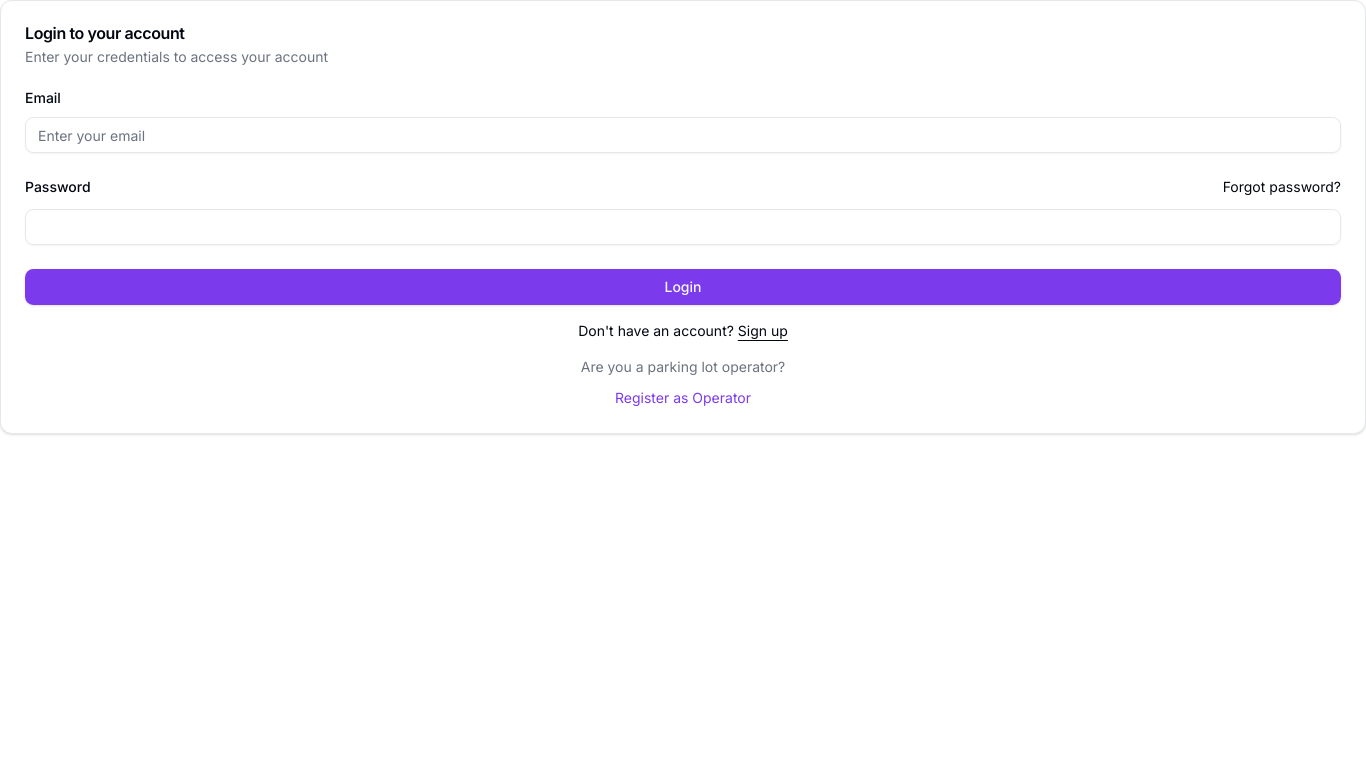
Test: LoginForm › should handle successful sign up
The width and height of the screenshot is (1366, 768).
Note: Switch to sign up mode
Click the button "Sign up" at (763, 331), box 738,321 -> 788,341
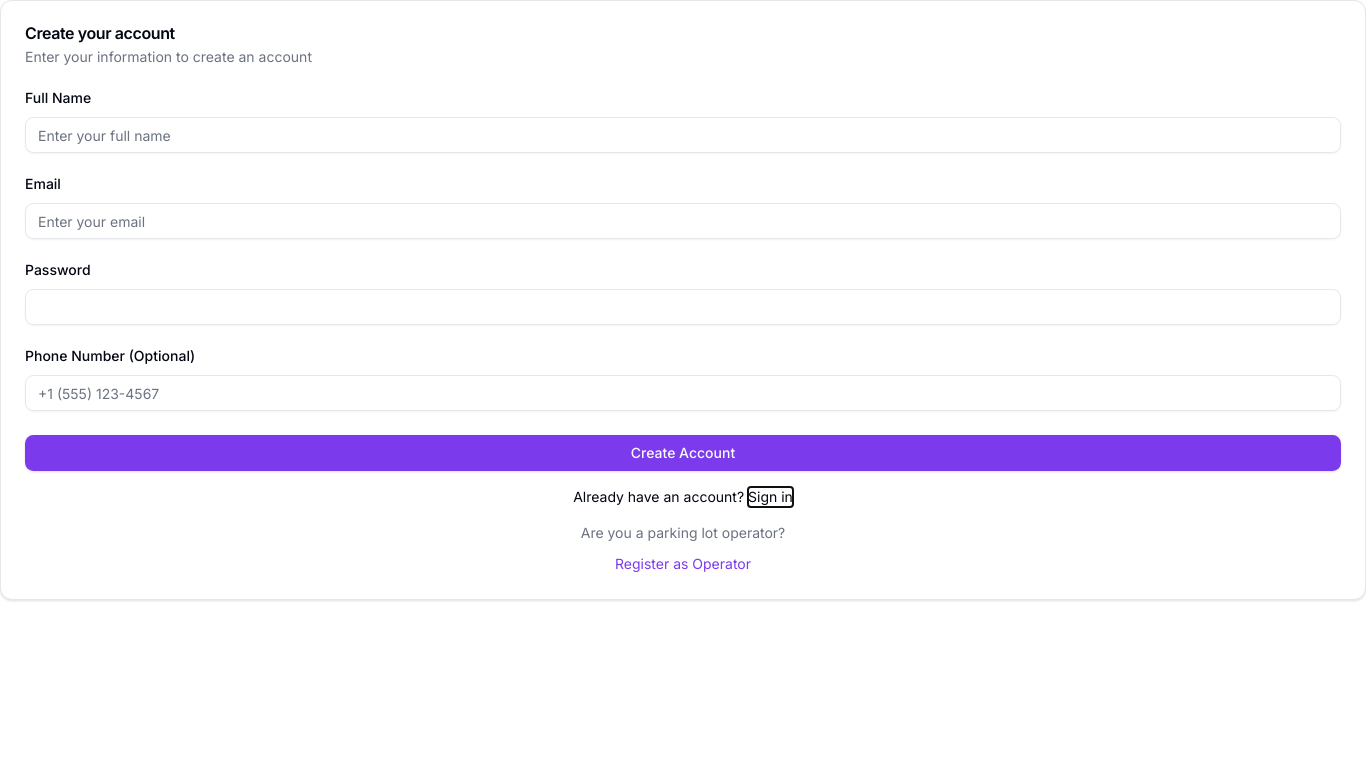
Note: Fill out the form
Type "Test User" into the field labelled "Full Name" at (683, 135), box 25,117 -> 1341,153
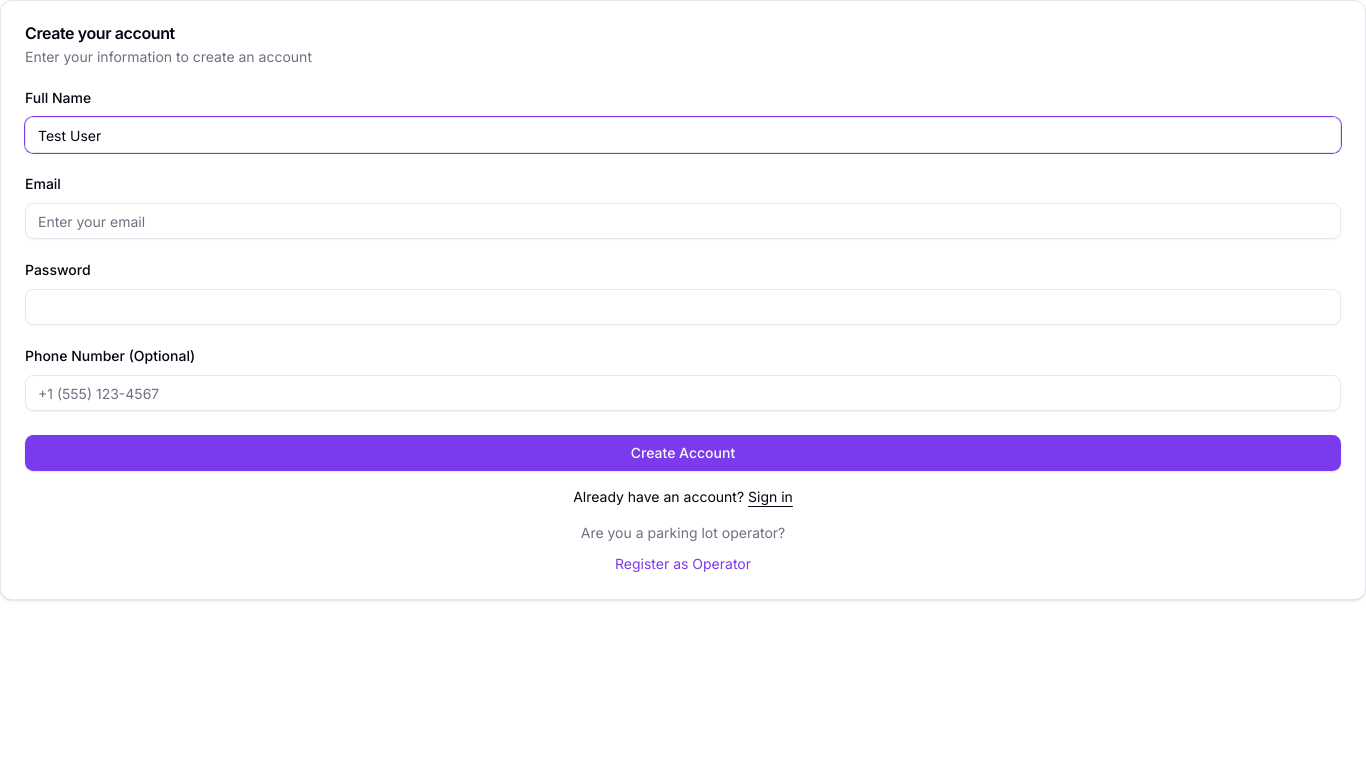
Type "test@example.com" into the field labelled "Email" at (683, 221), box 25,203 -> 1341,239
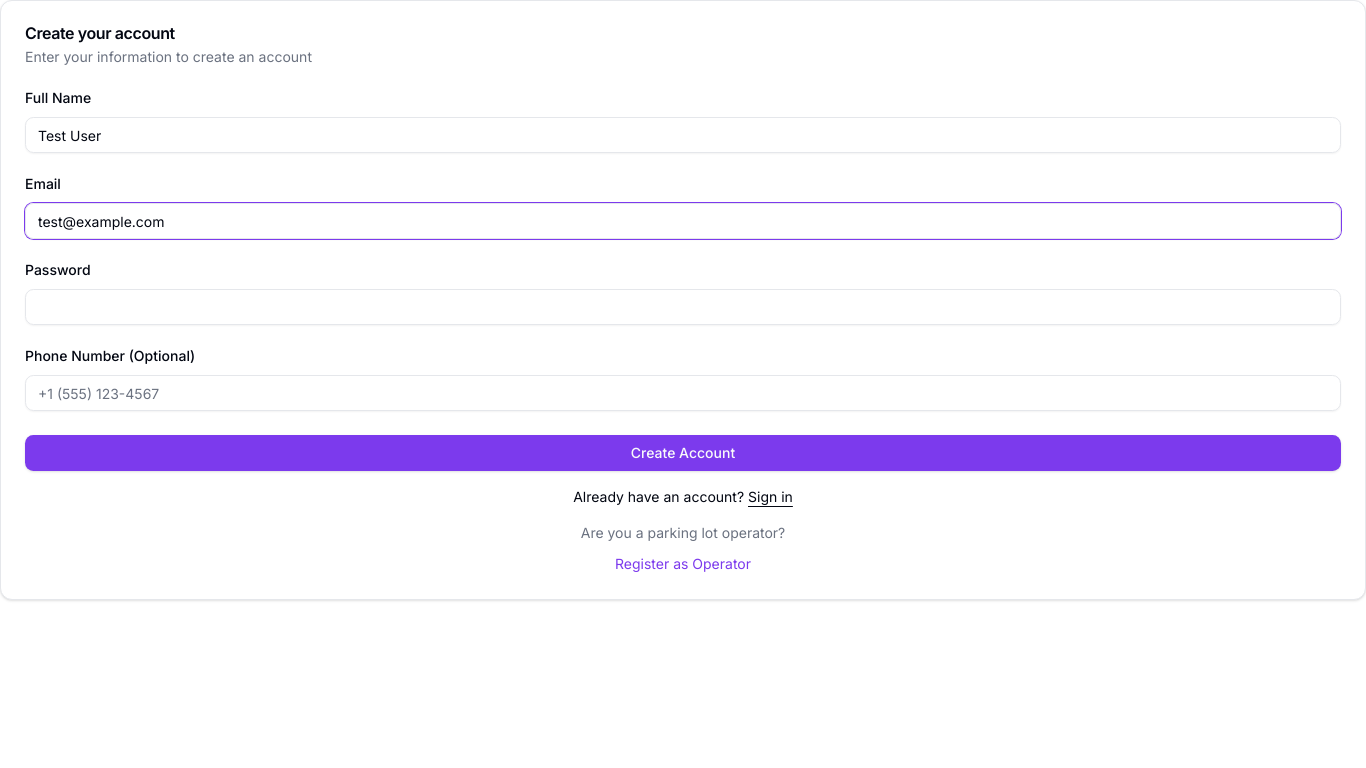
Type "password123" into the password field labelled "Password" at (683, 307), box 25,289 -> 1341,325
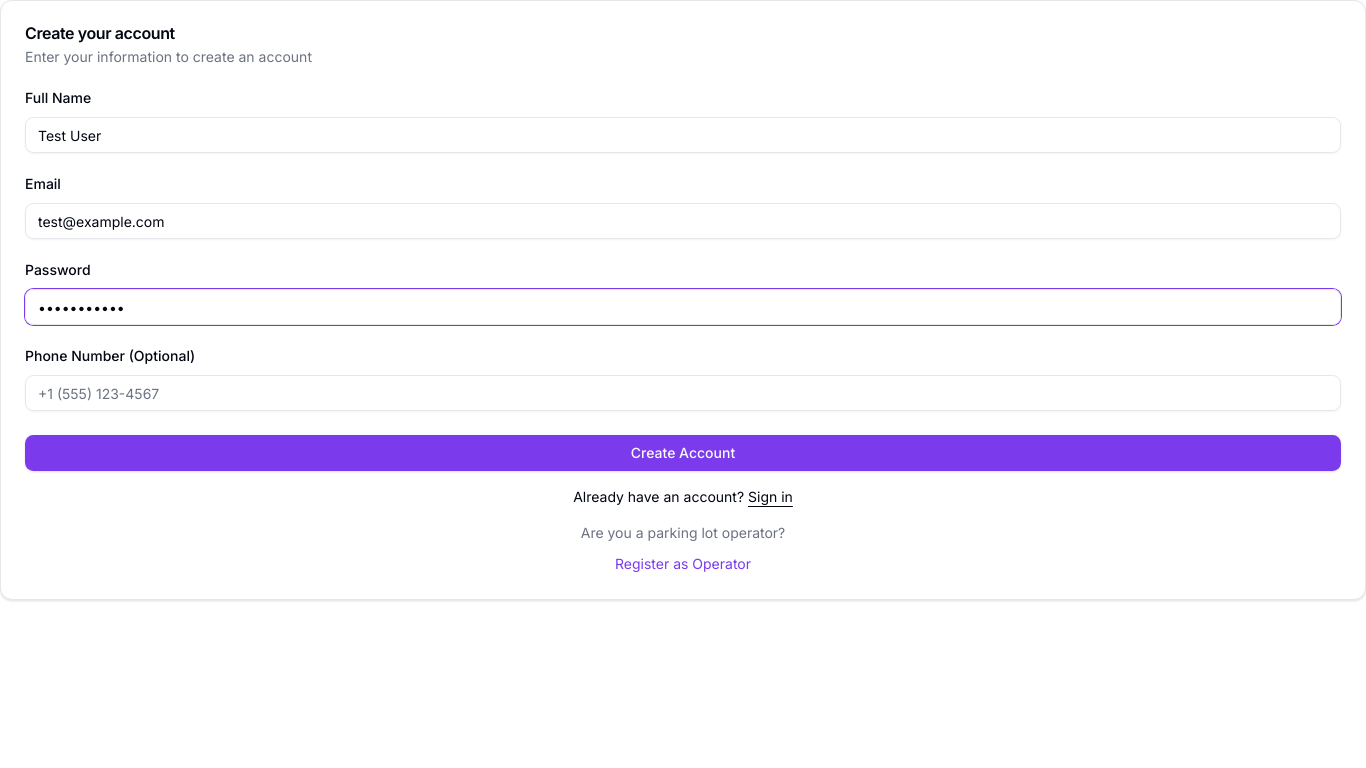
Type "+1234567890" into the field labelled "Phone Number (Optional)" at (683, 393), box 25,375 -> 1341,411
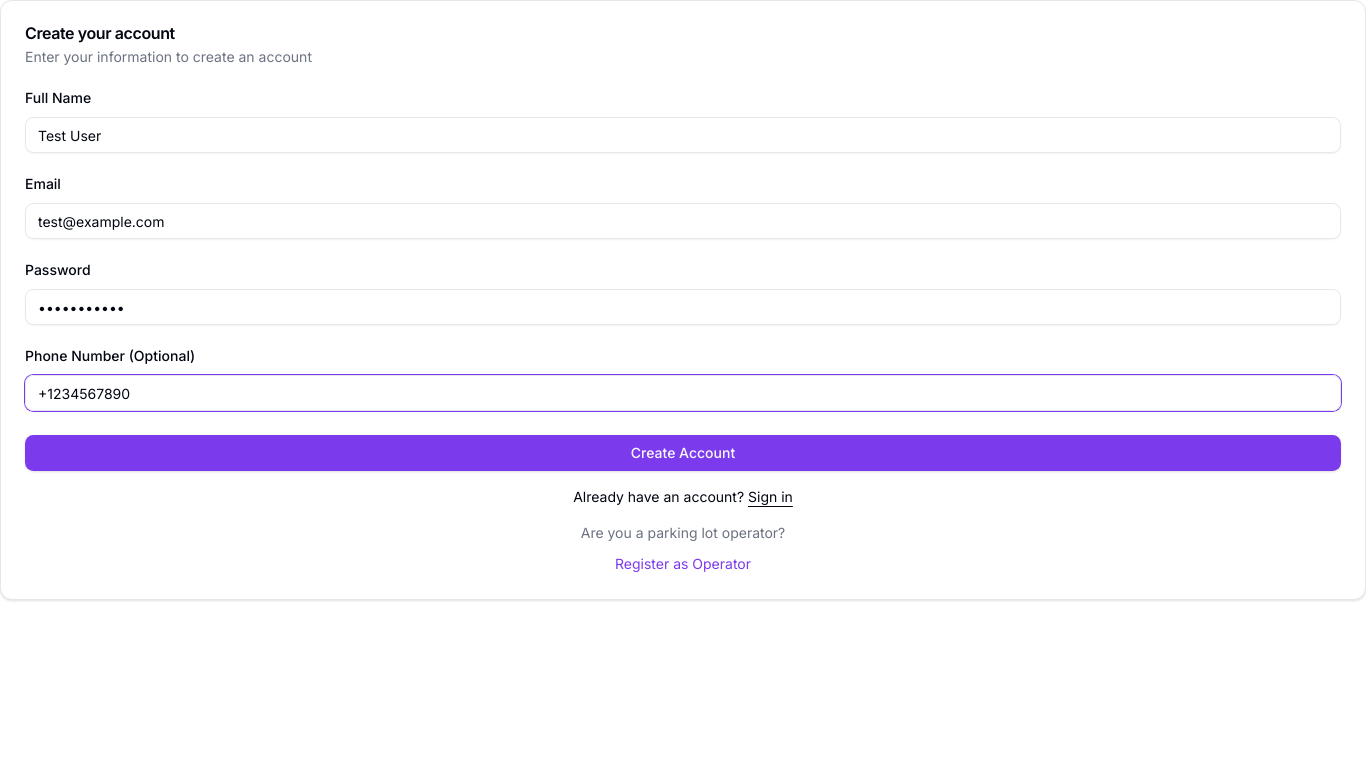
Note: Submit the form
Click the button "Create Account" at (683, 453), box 25,435 -> 1341,471
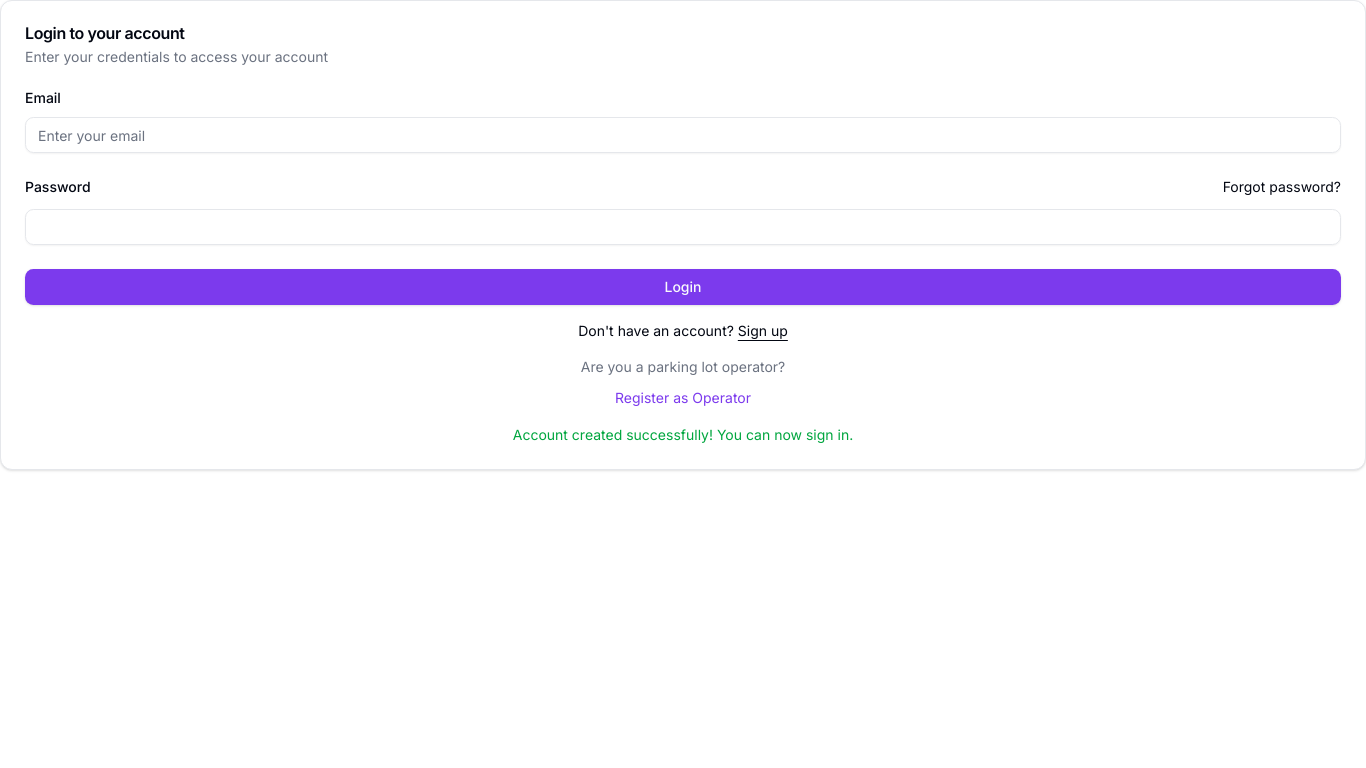
Expected: the text "Account created successfully! You can now sign in." is shown, 513,426 -> 853,443
Expected: the text "Login to your account" is shown, 25,23 -> 184,43
